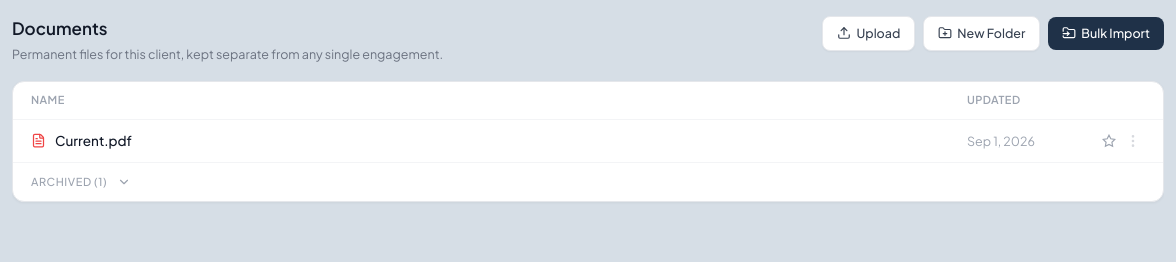
Test: FolderBrowser Archived toggle › hides the superseded doc again after clicking the toggle a second time
Expected: the text "Current.pdf" is shown, [55,131,132,151]
Toggle on.
What coordinates should you click on to do the following:
click the button without text in the row of "Archived ("
I would click on:
 (124, 182)
Its box is [115,173,133,191].
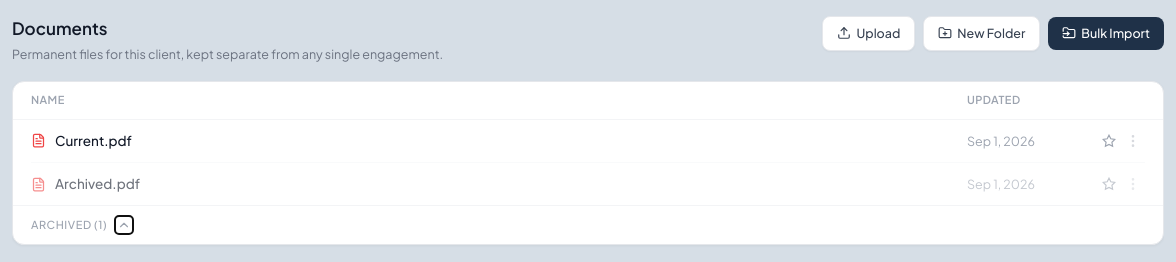
Expected: the text "Archived.pdf" is shown, [55,174,140,194]
Toggle off.
What coordinates should you click on to do the following:
click the button without text in the row of "Archived ("
I would click on:
 (124, 225)
Its box is [115,216,133,234].
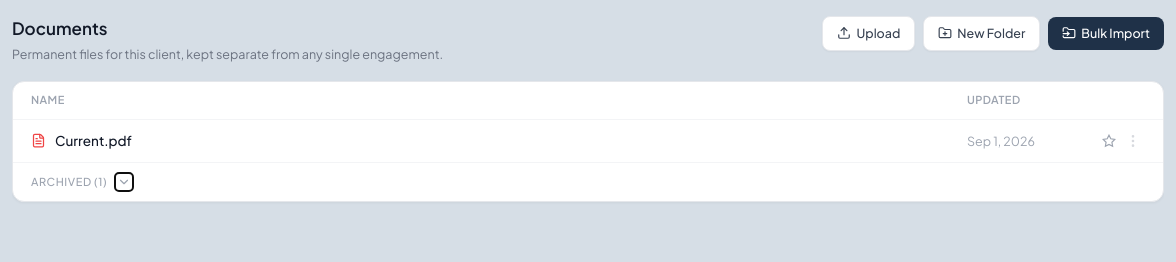
Expected: the text "Current.pdf" is shown, [55,131,132,151]
Expected: the text "Archived.pdf" is gone
